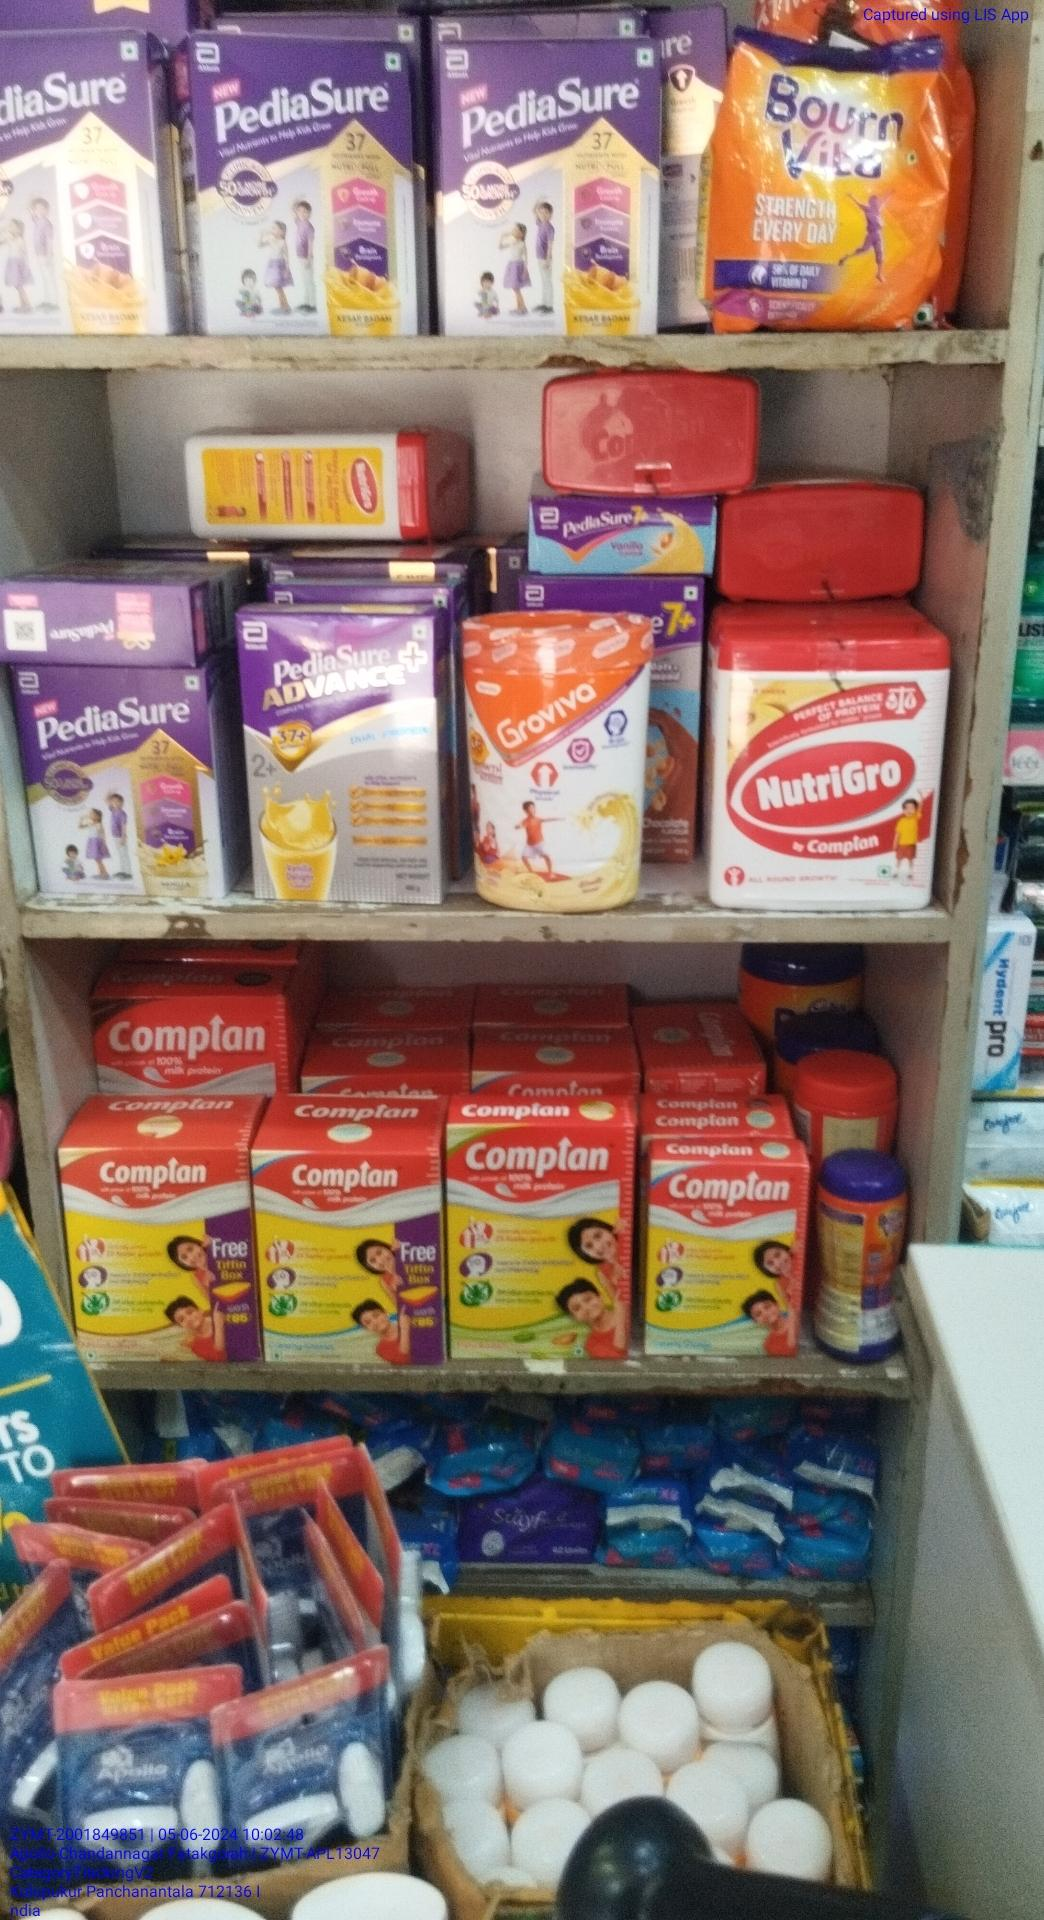BOURN_VITA_500_G_POUCH: (714, 32, 951, 330)
COMPLAN_CREAMY_CLASSIC_500_G_PACK: (257, 1149, 441, 1356), (644, 1153, 801, 1358)
COMPLAN_KESAR_BADAM_500_GMS_PACK: (63, 1150, 247, 1365)
COMPLAN_PISTA_BADAM_500_GMS_PACK: (449, 1123, 626, 1362)
PEDIASURE_VANILLA_500_G_PACK: (15, 666, 220, 898)
